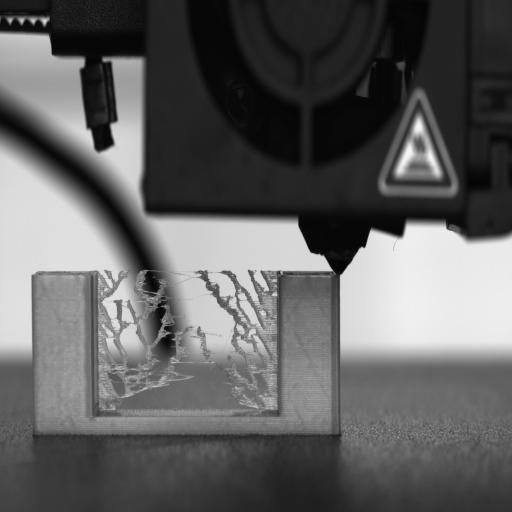spaghetti_and_stringing: (95, 268, 277, 410)
